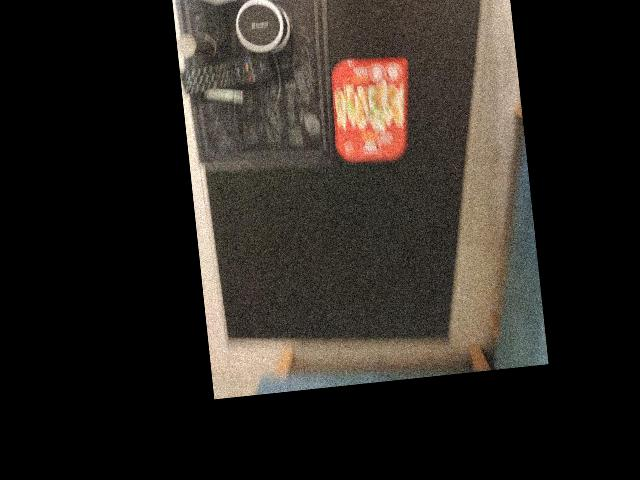cheese: (326, 54, 420, 167)
